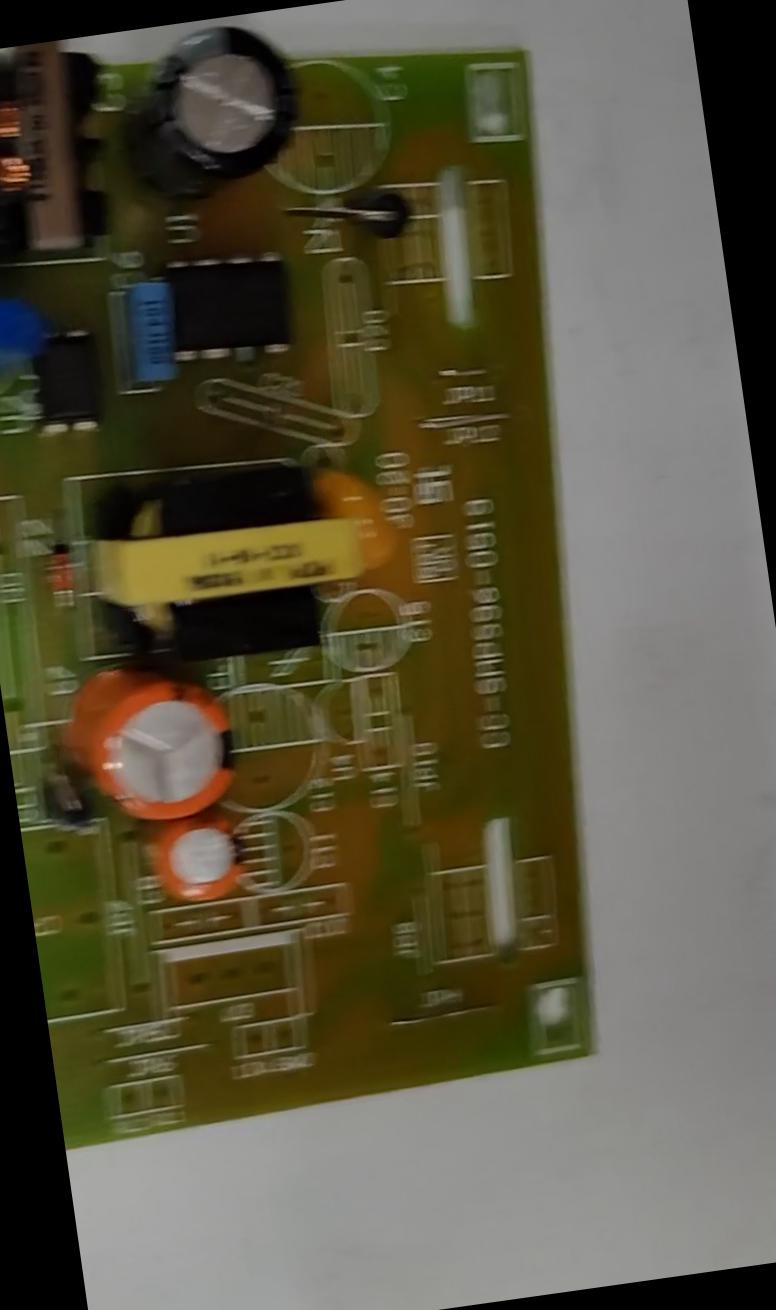Cap1: (57, 653, 242, 828)
Cap2: (144, 808, 249, 908)
Cap3: (114, 22, 308, 202)
MOSFET: (160, 242, 300, 366)
Mov: (0, 281, 43, 381)
Transformer: (79, 460, 361, 676), (0, 35, 128, 267)
